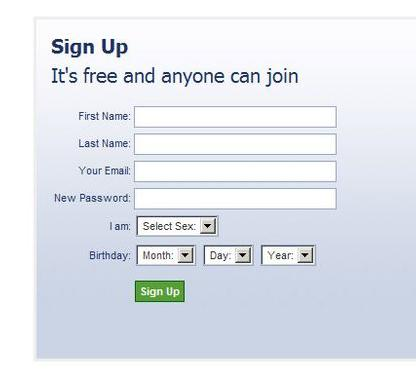button: (134, 280, 187, 304)
field: (130, 105, 337, 129), (130, 187, 337, 211), (132, 133, 338, 157), (132, 160, 337, 183), (134, 214, 219, 238), (134, 244, 196, 268), (259, 244, 318, 267), (202, 244, 255, 267)
field_with_label: (53, 186, 339, 213), (77, 104, 339, 130), (79, 132, 339, 158), (79, 158, 339, 184), (89, 243, 198, 270), (108, 213, 220, 239)
